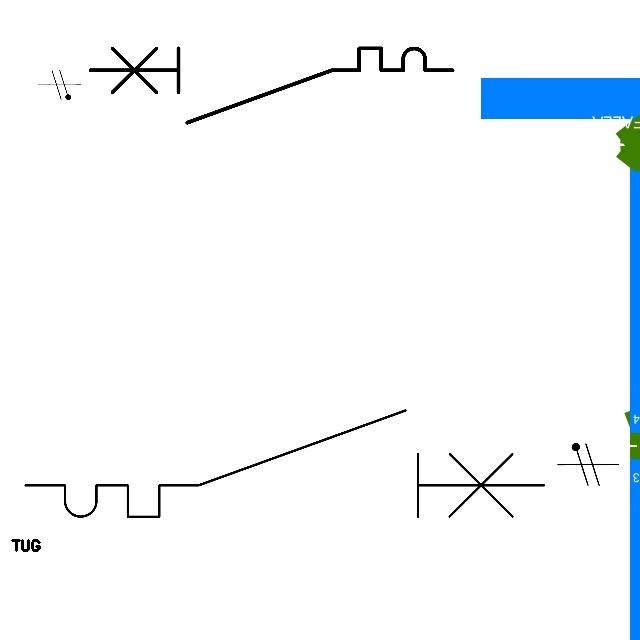interruptor_termomagnetico: (12, 397, 557, 530), (81, 39, 462, 132)
